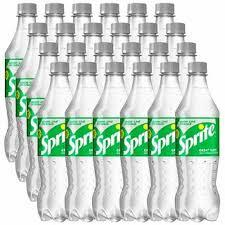sprite_zero: (176, 61, 224, 222), (93, 62, 132, 222), (121, 62, 160, 222), (37, 60, 75, 223), (151, 61, 187, 223), (66, 64, 103, 219)
